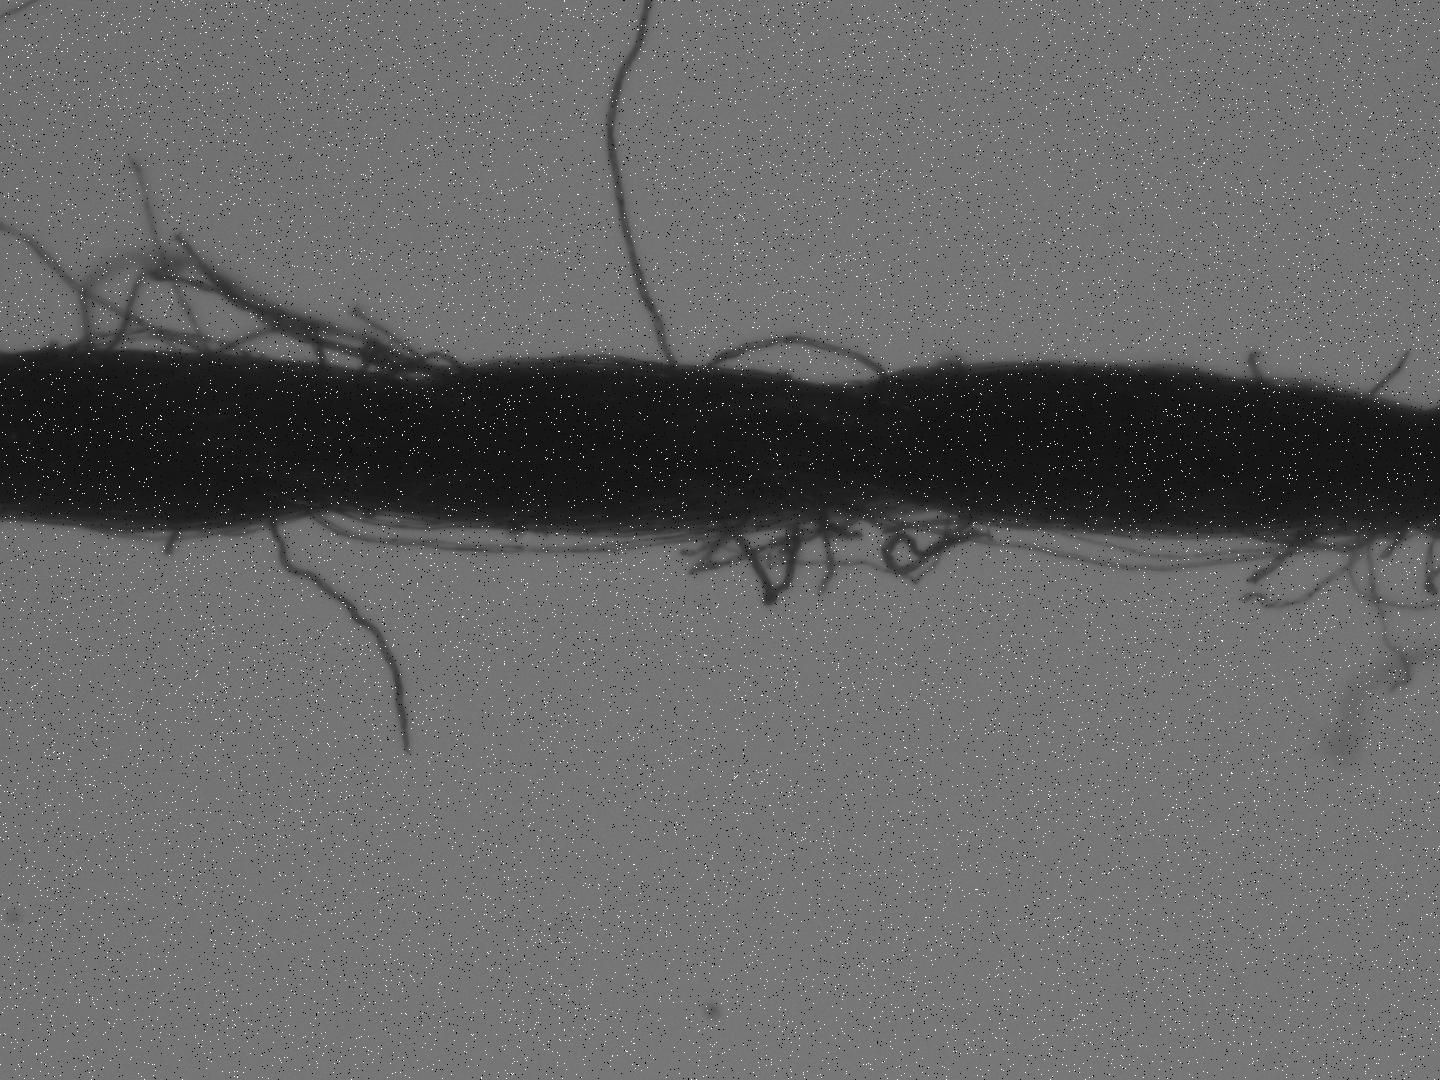loop_fiber: (876, 515, 1383, 573), (305, 509, 720, 555), (211, 313, 426, 379), (704, 330, 889, 381), (728, 513, 802, 609), (73, 324, 248, 360), (1254, 522, 1392, 552), (351, 507, 483, 530), (391, 348, 469, 379)
protruding_fiber: (263, 509, 416, 752), (9, 218, 239, 355), (600, 2, 680, 365), (127, 164, 212, 352), (1378, 347, 1408, 396), (820, 518, 833, 584)
